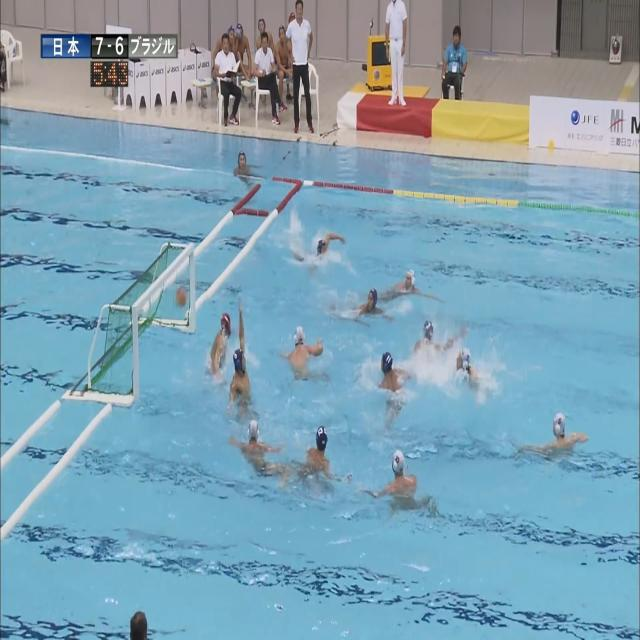ball: (176, 285, 187, 307)
